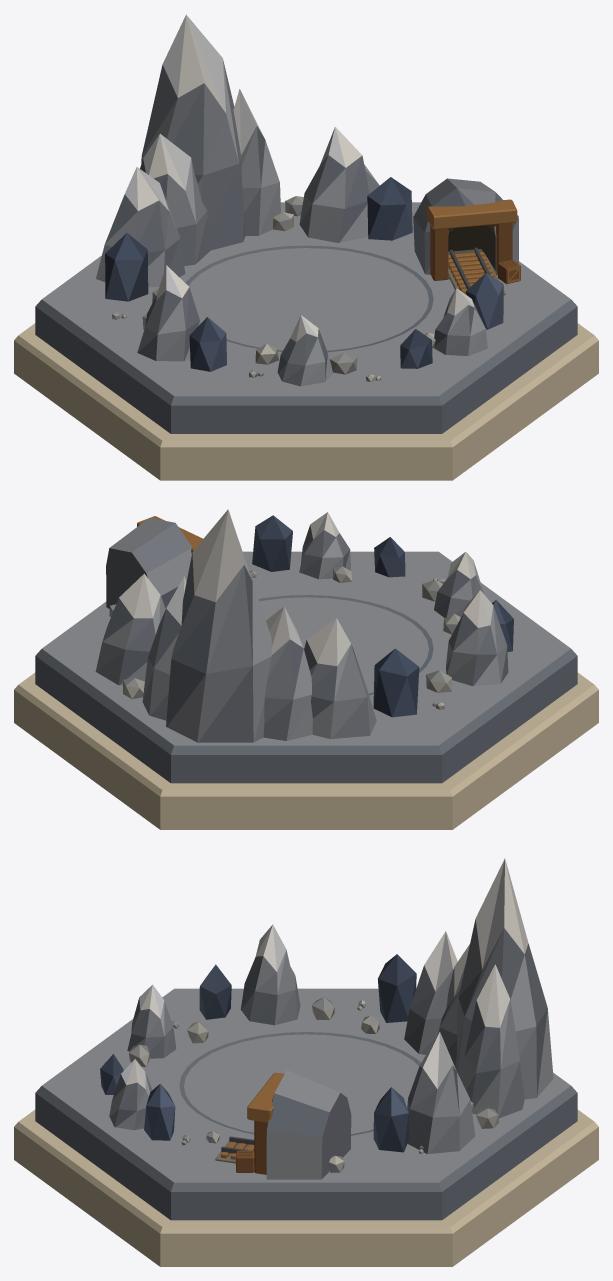
File: hex_mountains.glb
3 views of the same model, one above another, from view 1: azimuth 30°, elevation 25°; view 2: azimuth 150°, elevation 25°; view 3: azimuth 270°, elevation 25° (orthographic).
Visible parts, largest first — view 1: hex_mountains; view 2: hex_mountains; view 3: hex_mountains.
Boxes of the visible parts, left/top/right/bottom form: hex_mountains: left=14, top=14, right=598, bottom=480; hex_mountains: left=14, top=509, right=598, bottom=829; hex_mountains: left=14, top=858, right=598, bottom=1266.
Bounding box in the file's own units: 1.73 × 1.1 × 2.
